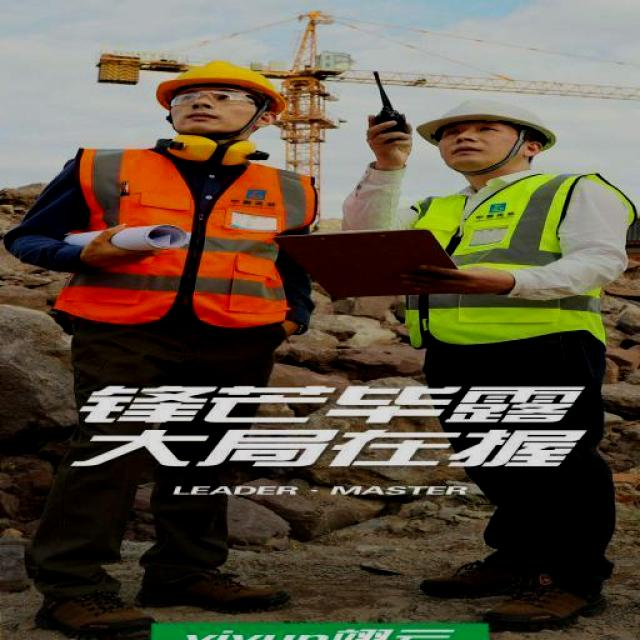face_nomask: (440, 117, 510, 165), (170, 88, 250, 128)
glasses: (165, 86, 263, 112)
hand_noglove: (394, 258, 495, 302), (80, 216, 166, 265), (360, 106, 420, 166)
head_helmet: (412, 93, 564, 151), (156, 55, 290, 119)
person: (11, 49, 319, 640), (372, 86, 639, 616)
shoes: (478, 560, 613, 638), (33, 572, 177, 638), (130, 561, 295, 617), (413, 537, 548, 602)
vest: (50, 140, 312, 325), (399, 170, 626, 344)
